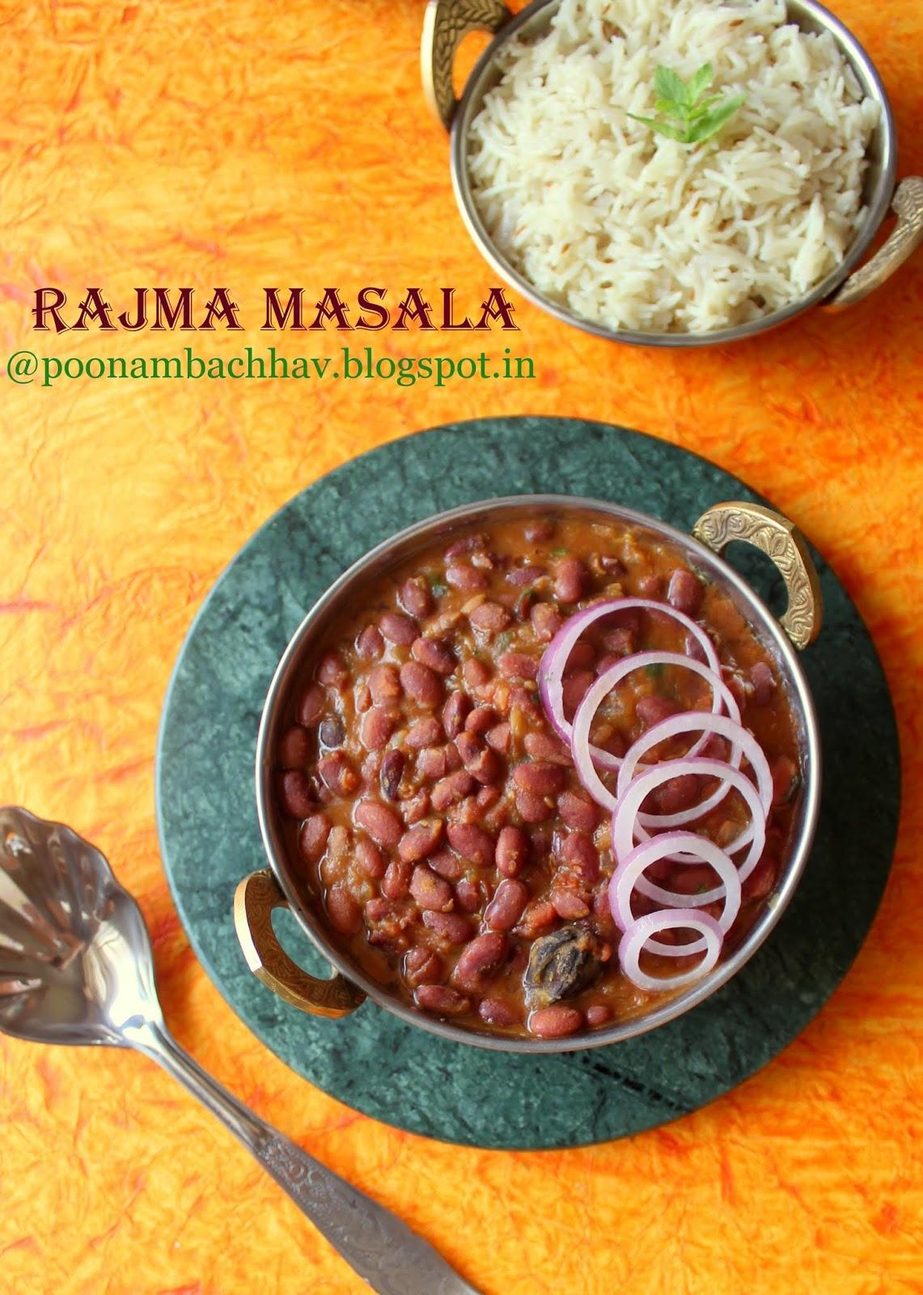rice: (299, 518, 777, 1105)
